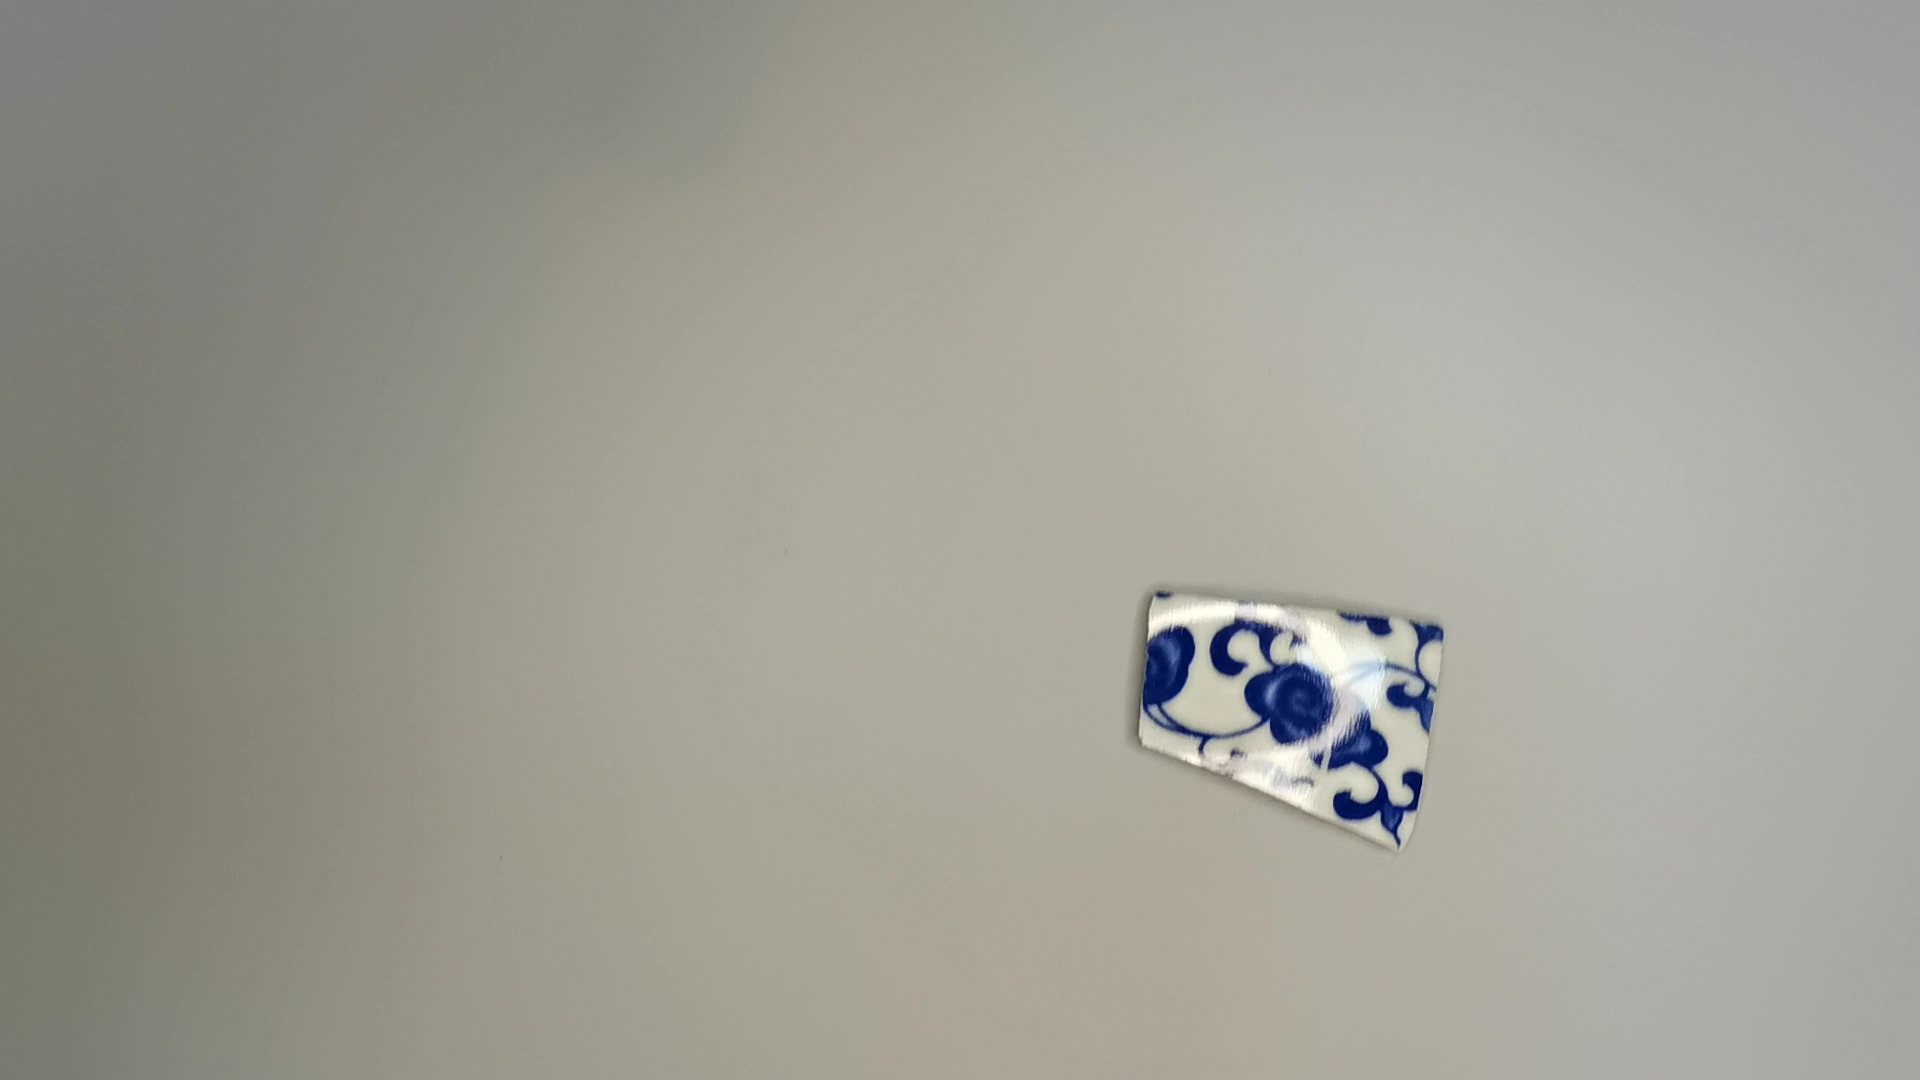ceramic: (1127, 579, 1460, 860)
